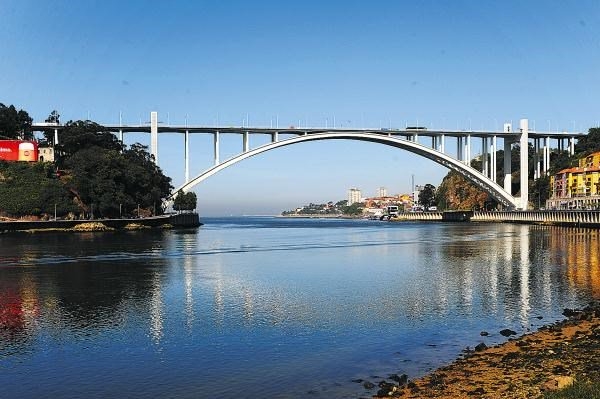arrabida: (25, 112, 590, 212)
